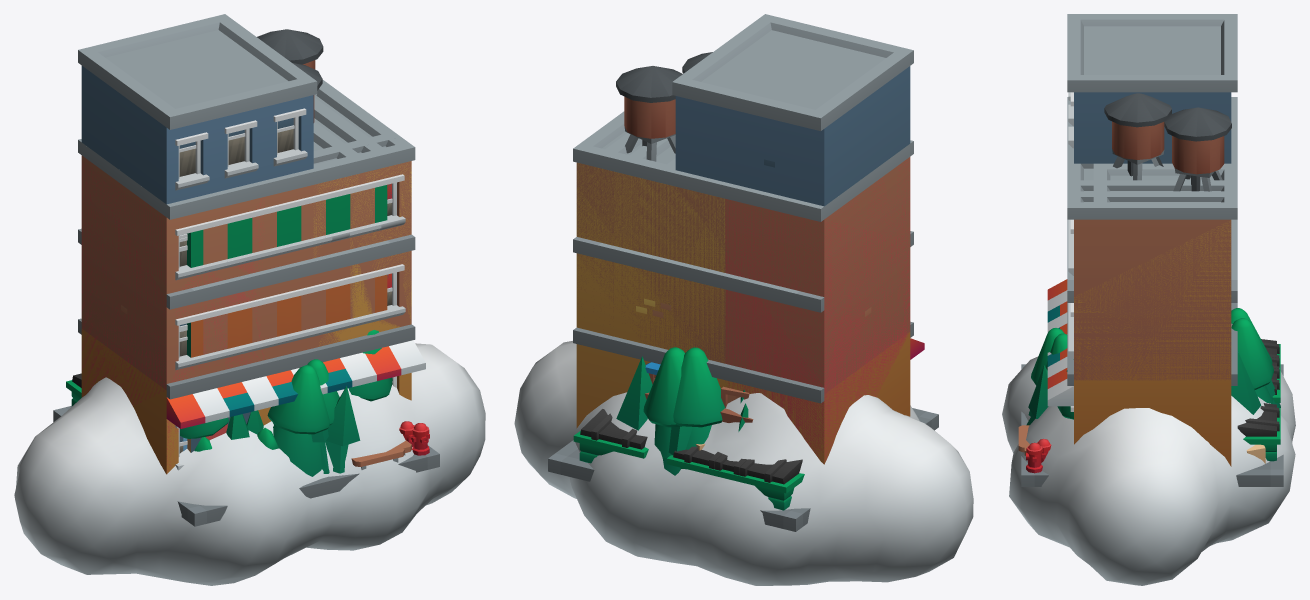
File: modern.glb
The picture shows the model from 3 angles, left to right: view 1: azimuth 30°, elevation 25°; view 2: azimuth 150°, elevation 25°; view 3: azimuth 270°, elevation 25°; orthographic projection. The views are drawn at different scales.
Parts seen in each view (by area): view 1: cloud_big, building_E, building_H, building_D, building_F, building_G, trees_B_large, building_B, building_A, trees_A_large, building_C, trees_A_medium (+1 smaller); view 2: building_E, cloud_big, building_F, building_H, building_D, building_G, trees_B_large, trees_B_medium, trees_A_large, building_C, building_B, building_market_blue; view 3: building_E, cloud_big, building_H, building_F, building_D, building_G, building_C, trees_B_medium, trees_A_large, trees_B_large, building_A, building_B.
Part boxes in pixels (x1,y1,x2,y2): cloud_big: [14, 343, 485, 585]; building_E: [78, 94, 425, 474]; building_H: [66, 14, 411, 469]; building_D: [53, 63, 439, 526]; building_F: [81, 156, 414, 473]; building_G: [78, 80, 429, 456]; trees_B_large: [180, 330, 392, 476]; building_B: [191, 240, 389, 452]; building_A: [216, 246, 414, 449]; trees_A_large: [226, 386, 360, 473]; building_C: [53, 121, 358, 526]; trees_A_medium: [246, 410, 329, 473]; building_E: [573, 131, 924, 464]; cloud_big: [514, 341, 973, 585]; building_F: [574, 158, 910, 463]; building_H: [616, 14, 913, 510]; building_D: [548, 52, 938, 518]; building_G: [573, 111, 913, 487]; trees_B_large: [663, 347, 725, 475]; trees_B_medium: [643, 347, 684, 458]; trees_A_large: [616, 356, 748, 454]; building_C: [548, 138, 938, 531]; building_B: [598, 243, 799, 481]; building_market_blue: [645, 362, 753, 422]; building_E: [1037, 163, 1280, 466]; cloud_big: [1002, 356, 1295, 585]; building_H: [1024, 14, 1280, 463]; building_F: [1067, 220, 1237, 464]; building_D: [1018, 93, 1283, 475]; building_G: [1026, 97, 1280, 473]; building_C: [1021, 168, 1283, 486]; trees_B_medium: [1046, 318, 1273, 403]; trees_A_large: [1026, 351, 1275, 425]; trees_B_large: [1028, 308, 1280, 419]; building_A: [1037, 229, 1237, 462]; building_B: [1067, 219, 1280, 402].
Size of the model in its own units: 3.61 by 3.93 by 2.24.
Materials: 2 (2 with a texture image).
